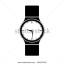watch: (20, 19, 45, 43)
